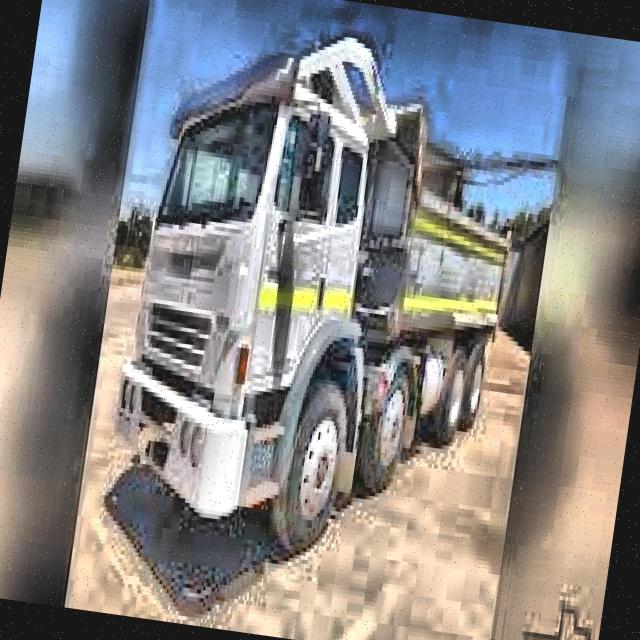dump_truck: (95, 47, 525, 572)
